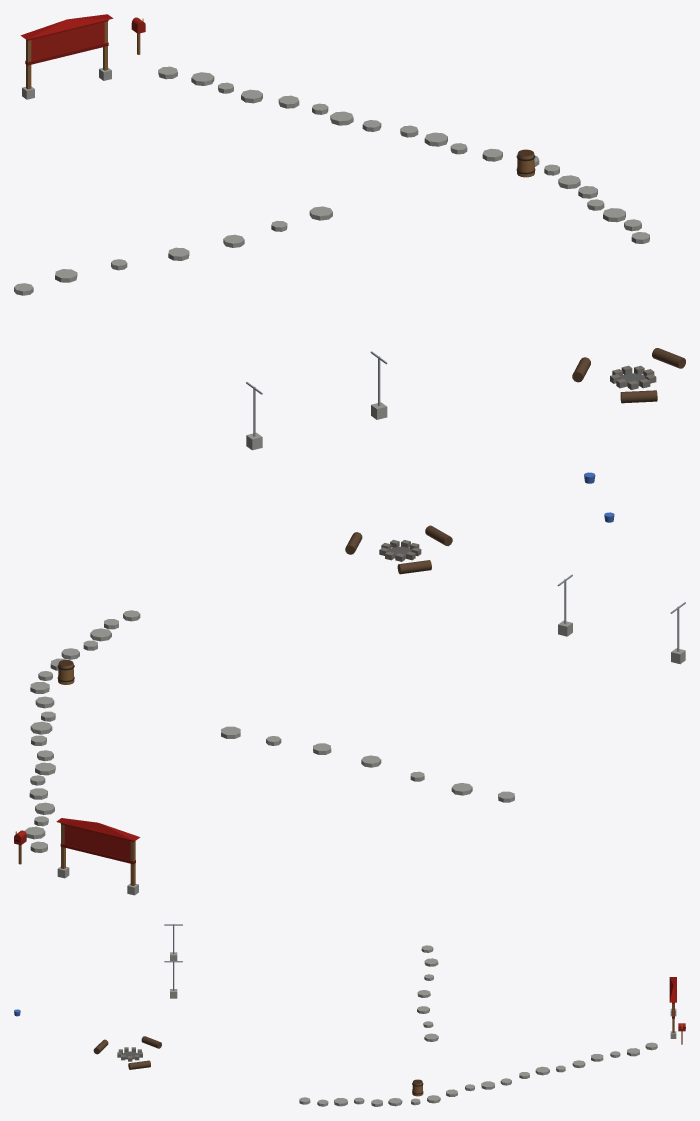
The model's file is SM_Slifer_Yard.fbx.
3 views of the same model, one above another, from view 1: azimuth 30°, elevation 25°; view 2: azimuth 150°, elevation 25°; view 3: azimuth 270°, elevation 25° (orthographic). The views are drawn at different scales.
Visible parts, largest first — view 1: SM_Slifer_Yard; view 2: SM_Slifer_Yard; view 3: SM_Slifer_Yard.
Part boxes in pixels (bbox=[...]): SM_Slifer_Yard: bbox=[14, 14, 685, 483]; SM_Slifer_Yard: bbox=[14, 512, 685, 895]; SM_Slifer_Yard: bbox=[14, 924, 685, 1106].
Size of the model in its own units: 25.97 by 3.19 by 46.4.
